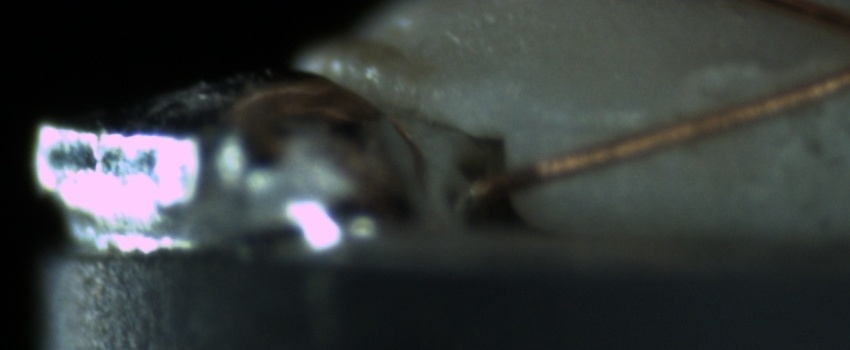DL: (531, 95, 669, 153)
